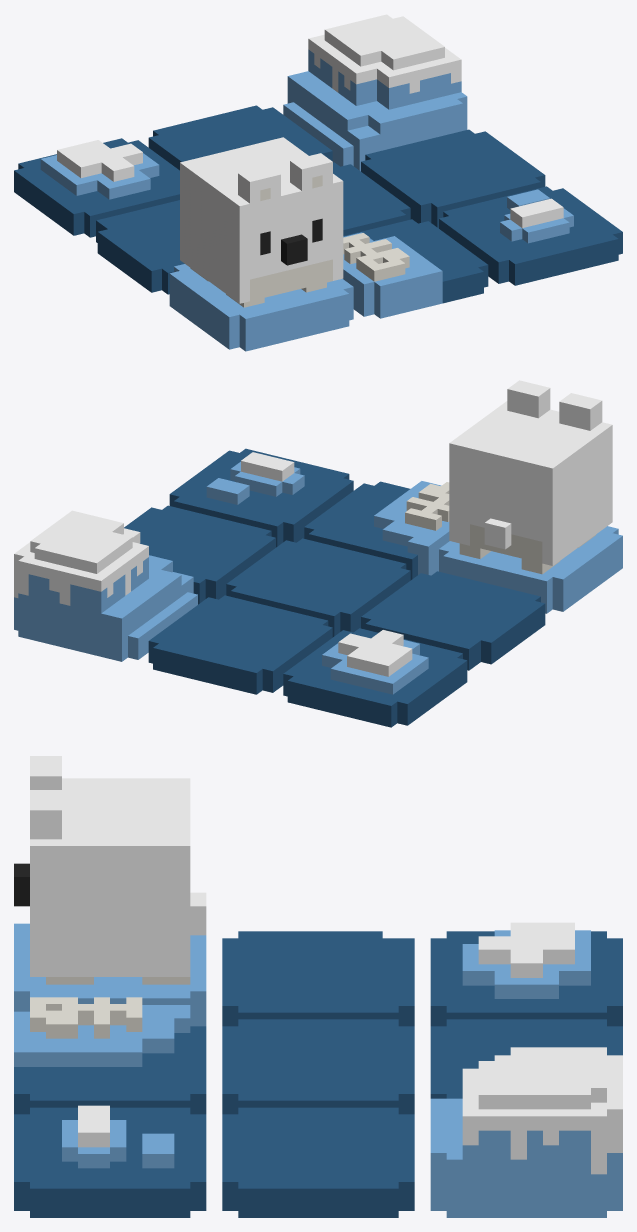
Rendered from hard_three_tile.obj.
The picture shows the model from 3 angles, top to bottom: view 1: azimuth 30°, elevation 25°; view 2: azimuth 150°, elevation 25°; view 3: azimuth 270°, elevation 25°; orthographic projection. The views are drawn at different scales.
Bounding box in the file's own units: 3.8 × 1.5 × 3.8.
1 material, 1 textured.
